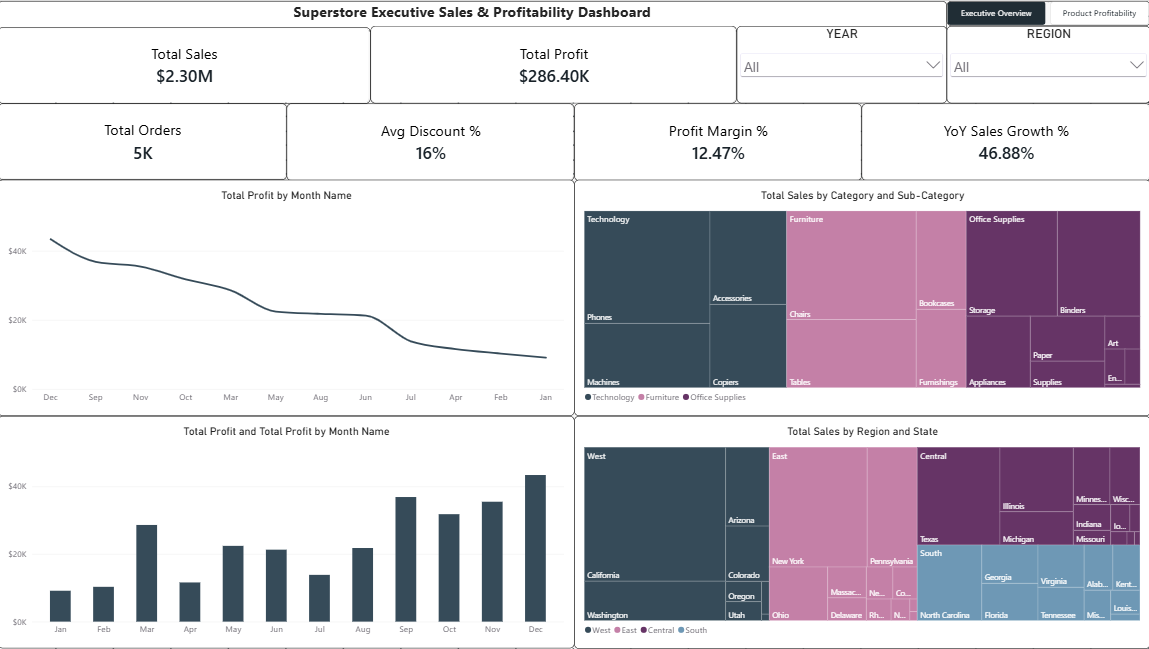

What the dashboard file says about the page in this screenshot:
{"tool":"powerbi","page":{"name":"Executive Overview","canvas":[1920,1080],"ordinal":0},"visuals":[{"type":"textbox","box":[0,0,1581.2,50],"z":0},{"type":"slicer","title":"YEAR","fields":{"Values":["Dim_Date.Year"]},"box":[1231.2,41.7,350,129.2],"z":1000},{"type":"slicer","title":"REGION","fields":{"Values":["Dim_Customers.Region"]},"box":[1581.2,41.7,339.6,129.2],"z":2000},{"type":"cardVisual","fields":{"Data":["_Measures.Total Sales"]},"box":[0,43.8,620.8,127.1],"z":3000},{"type":"cardVisual","fields":{"Data":["_Measures.Total Profit"]},"box":[620.8,41.7,610.4,129.2],"z":4000},{"type":"cardVisual","fields":{"Data":["_Measures.Total Orders"]},"box":[0,170.8,481.2,127.1],"z":5000},{"type":"cardVisual","fields":{"Data":["_Measures.YoY Sales Growth %"]},"box":[1439.6,170.8,481.2,129.2],"z":6000},{"type":"cardVisual","fields":{"Data":["_Measures.Profit Margin %"]},"box":[960.4,170.8,479.2,129.2],"z":7000},{"type":"cardVisual","fields":{"Data":["_Measures.Avg Discount %"]},"box":[481.2,170.8,479.2,129.2],"z":8000},{"type":"lineChart","fields":{"Category":["Dim_Date.Month Name"],"Y":["_Measures.Total Profit"]},"box":[0,297.9,960.4,393.8],"z":9000},{"type":"clusteredColumnChart","fields":{"Category":["Dim_Date.Month Name"],"Y":["_Measures.Total Profit","_Measures.Total Profit"]},"box":[0,691.7,960.4,387.5],"z":10000},{"type":"treemap","fields":{"Details":["Dim_Products.Sub-Category"],"Group":["Dim_Products.Category"],"Values":["_Measures.Total Sales"]},"box":[960.4,297.9,960.4,393.8],"z":11000},{"type":"treemap","fields":{"Details":["Dim_Customers.State"],"Group":["Dim_Customers.Region"],"Values":["_Measures.Total Sales"]},"box":[960,692,960,388],"z":12000},{"type":"pageNavigator","box":[1581.2,0,339.6,41.7],"z":12001}]}

Visuals, with their boxes in screenshot pixels (x1, y1, x2, y2), scaled from the page's 1920x1080 canvas onto the 1149x649 screenshot:
textbox: <region>0, 0, 946, 30</region>
"YEAR" slicer: <region>737, 25, 946, 103</region>
"REGION" slicer: <region>946, 25, 1148, 103</region>
cardVisual - _Measures.Total Sales: <region>0, 26, 372, 103</region>
cardVisual - _Measures.Total Profit: <region>372, 25, 737, 103</region>
cardVisual - _Measures.Total Orders: <region>0, 103, 288, 179</region>
cardVisual - _Measures.YoY Sales Growth %: <region>862, 103, 1148, 180</region>
cardVisual - _Measures.Profit Margin %: <region>575, 103, 862, 180</region>
cardVisual - _Measures.Avg Discount %: <region>288, 103, 575, 180</region>
lineChart - Dim_Date.Month Name x _Measures.Total Profit: <region>0, 179, 575, 416</region>
clusteredColumnChart - Dim_Date.Month Name x _Measures.Total Profit: <region>0, 416, 575, 648</region>
treemap - Dim_Products.Sub-Category x Dim_Products.Category: <region>575, 179, 1148, 416</region>
treemap - Dim_Customers.State x Dim_Customers.Region: <region>574, 416, 1148, 648</region>
pageNavigator: <region>946, 0, 1148, 25</region>
